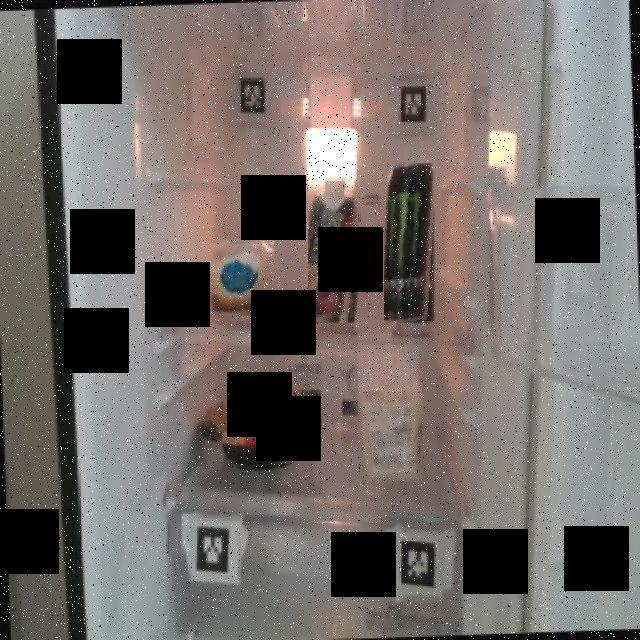bento: (198, 384, 322, 470)
can: (384, 163, 438, 325)
pudding: (208, 233, 278, 318)
sandwich: (355, 341, 427, 479)
smoothie: (308, 175, 363, 323)
